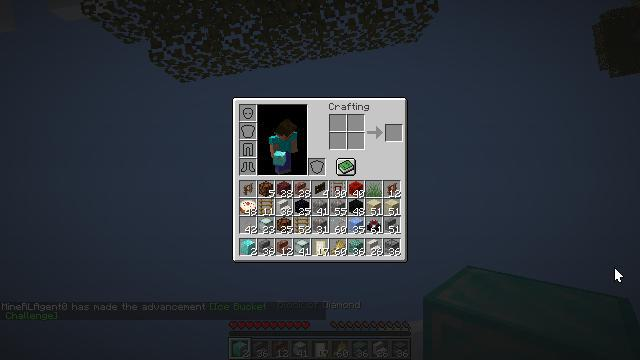cursor: (614, 267, 624, 283)
